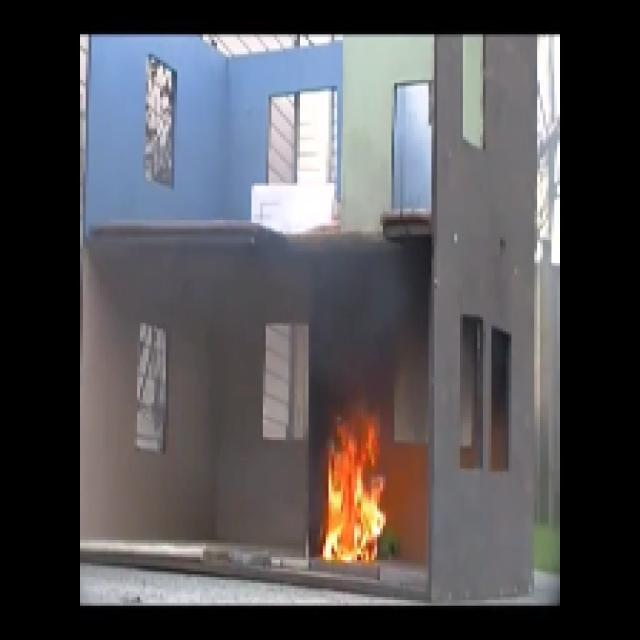Fire: (320, 419, 388, 564)
Smoke: (308, 258, 388, 372)
